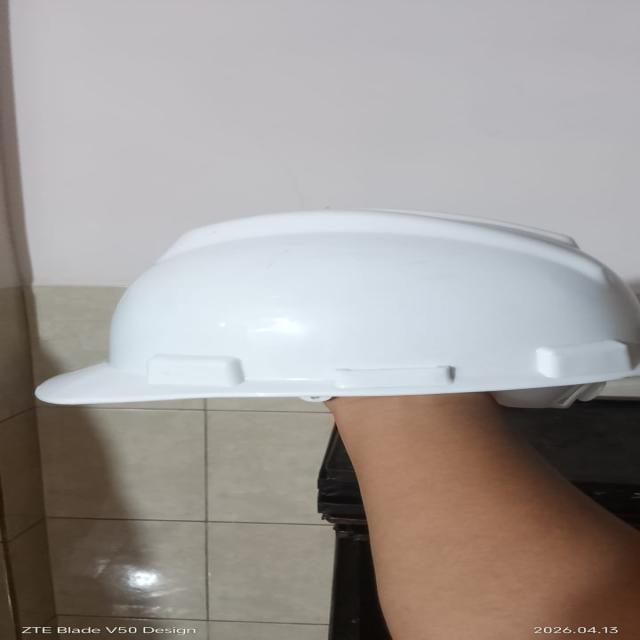casco: (41, 203, 640, 418)
